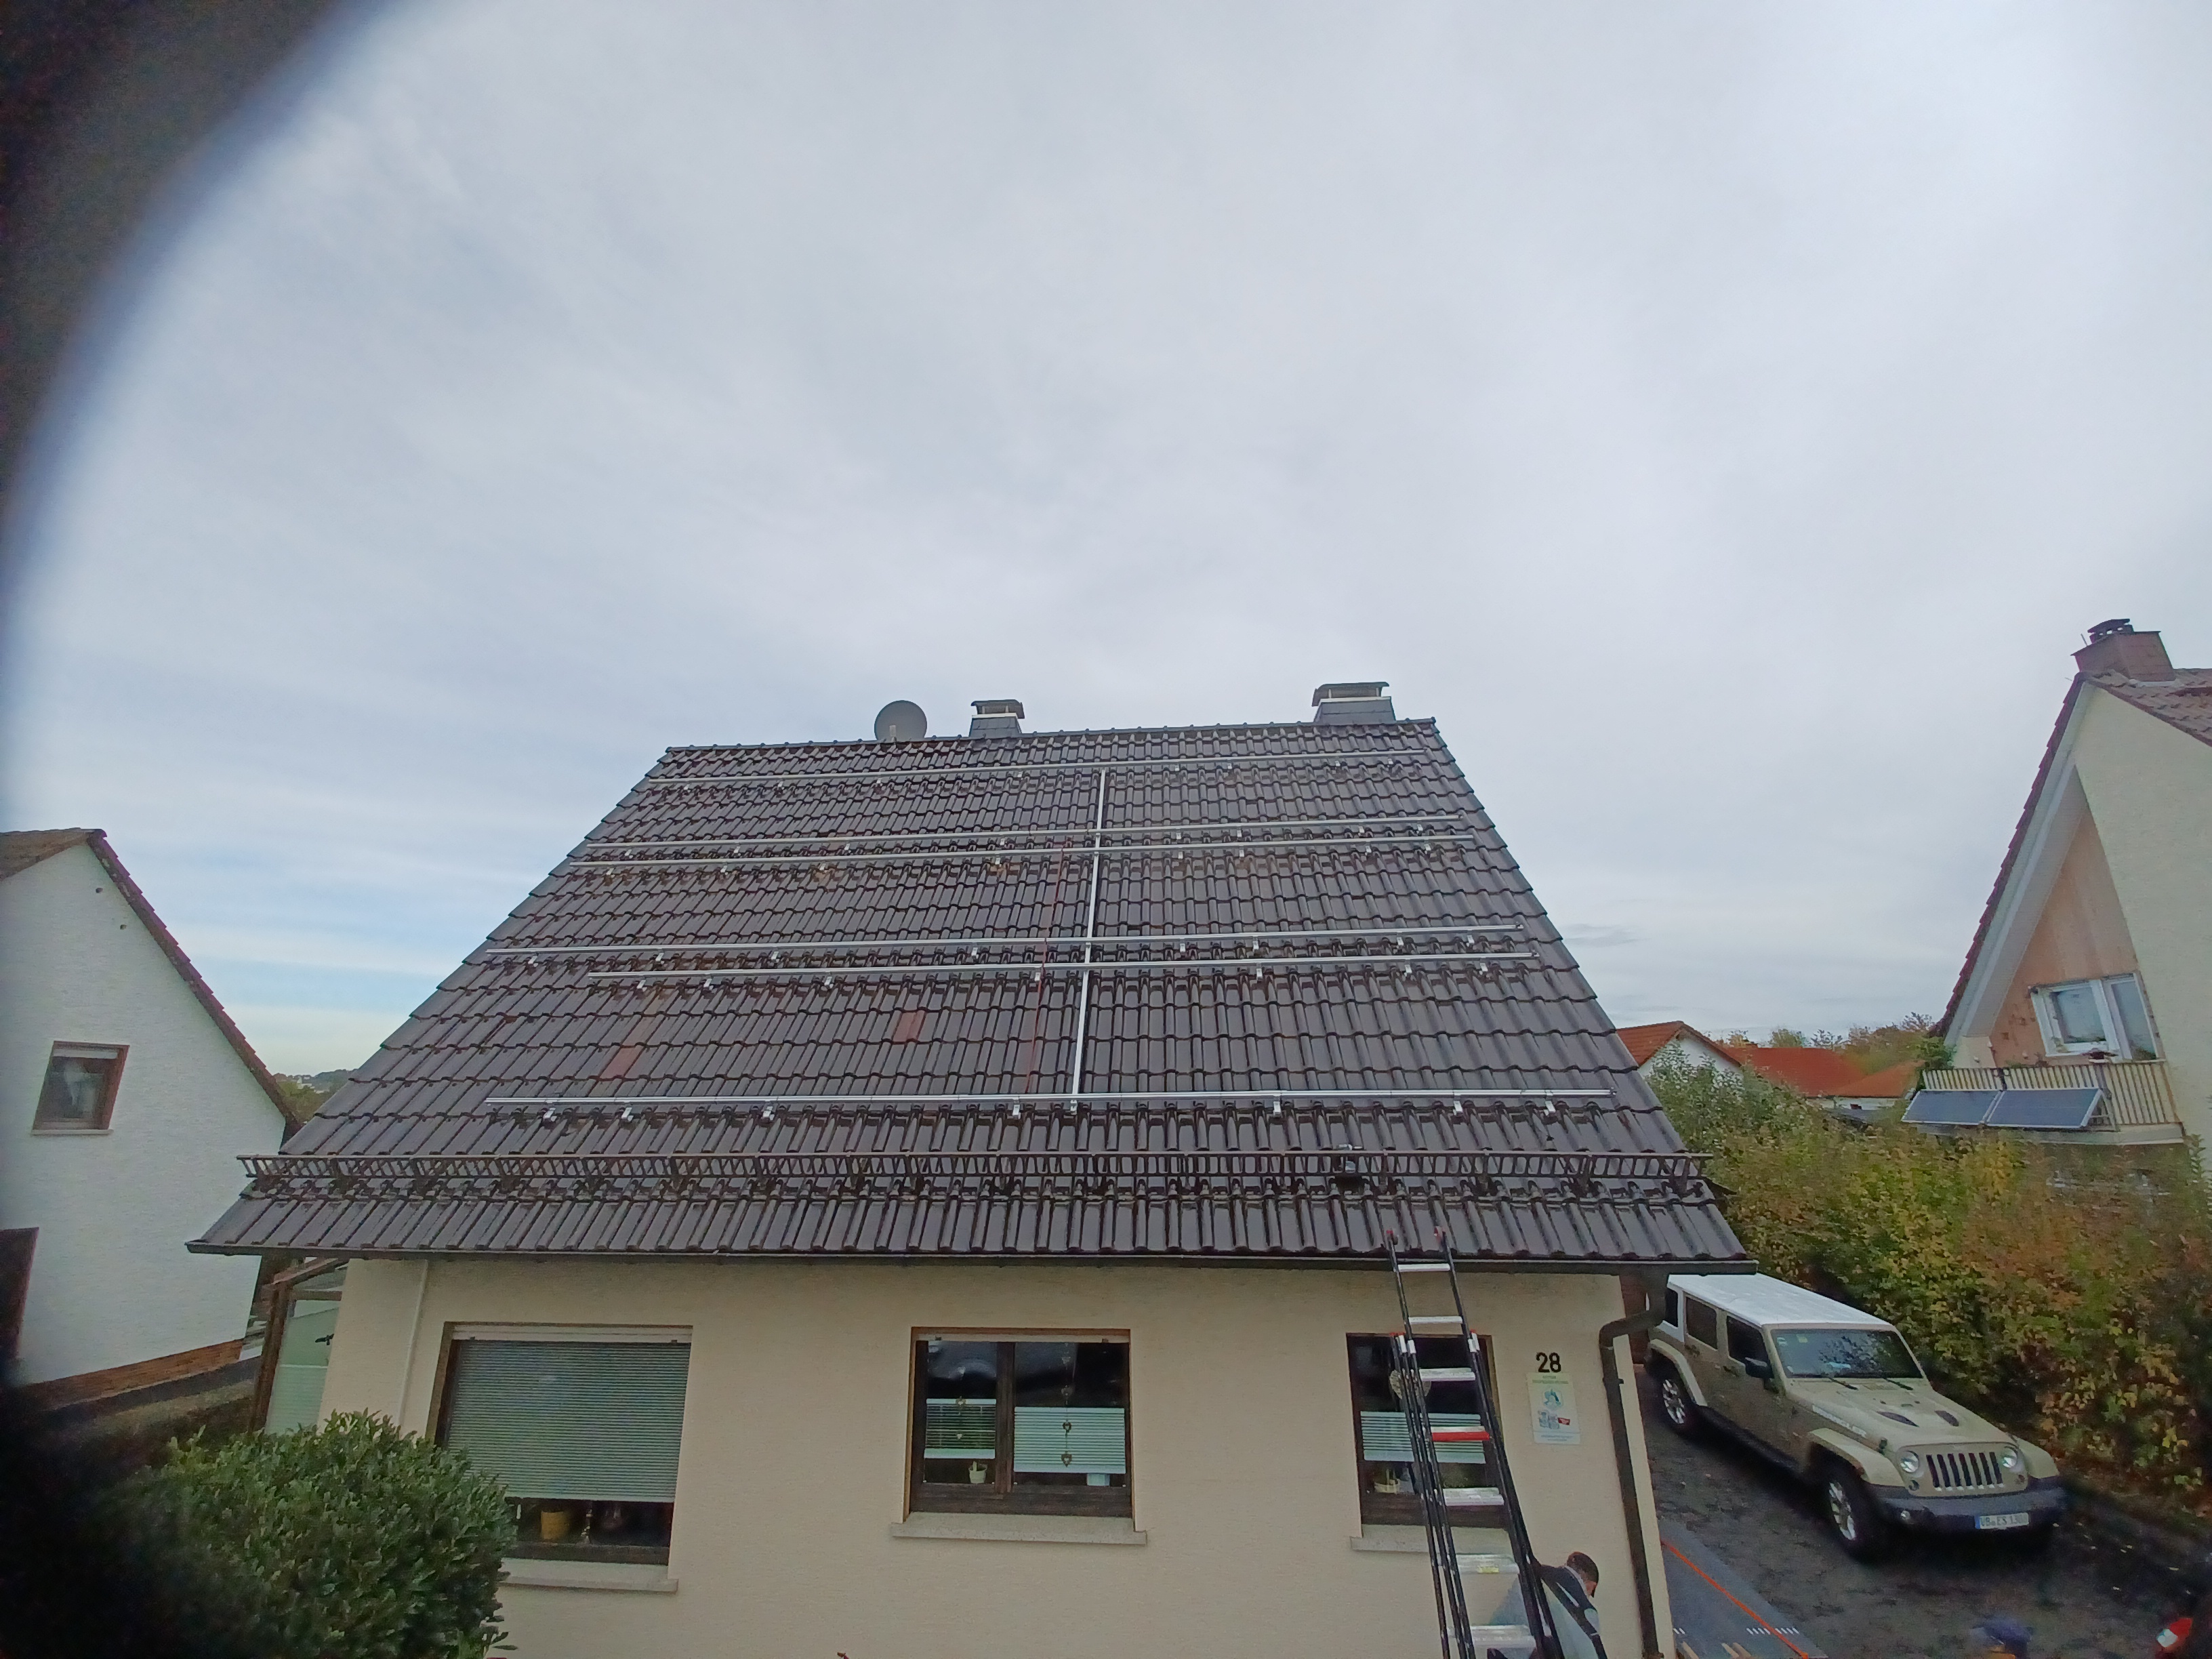hook: (1541, 1093, 1555, 1119), (543, 1101, 557, 1124), (763, 1100, 775, 1122), (622, 1101, 634, 1124), (1453, 1094, 1463, 1117), (702, 972, 714, 992), (636, 974, 648, 992), (770, 945, 780, 964), (824, 971, 834, 990), (1012, 1096, 1021, 1119), (1273, 1093, 1280, 1117), (1467, 929, 1475, 948), (1479, 957, 1487, 976), (528, 951, 538, 967), (655, 948, 665, 964), (1256, 960, 1263, 981), (1404, 958, 1411, 979), (1423, 838, 1432, 854), (819, 859, 827, 875), (733, 842, 742, 857), (1033, 965, 1040, 985), (1397, 931, 1404, 950), (683, 779, 691, 793), (1357, 823, 1366, 836), (843, 840, 852, 854), (719, 861, 728, 875), (625, 845, 634, 859), (606, 864, 615, 878), (972, 943, 979, 960), (1179, 938, 1186, 955), (1252, 936, 1259, 953), (1386, 753, 1393, 769), (1416, 819, 1423, 835), (1366, 842, 1372, 857), (1176, 828, 1183, 843), (995, 852, 1001, 868), (779, 777, 786, 791), (876, 774, 883, 788), (1334, 755, 1341, 769), (1000, 835, 1007, 849), (1017, 769, 1024, 781), (1226, 758, 1231, 774), (1238, 845, 1244, 861), (1177, 847, 1183, 863), (1237, 826, 1242, 840), (1174, 762, 1179, 774)
